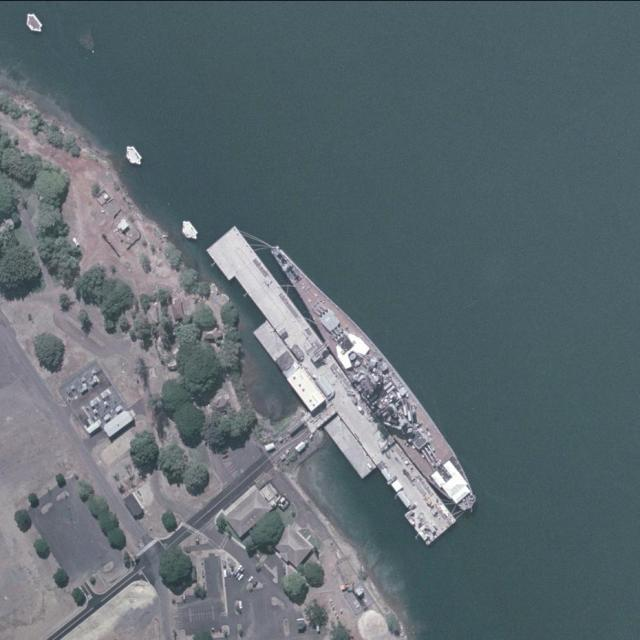Dock: (206, 224, 456, 542)
Other Warship: (260, 233, 487, 519)
